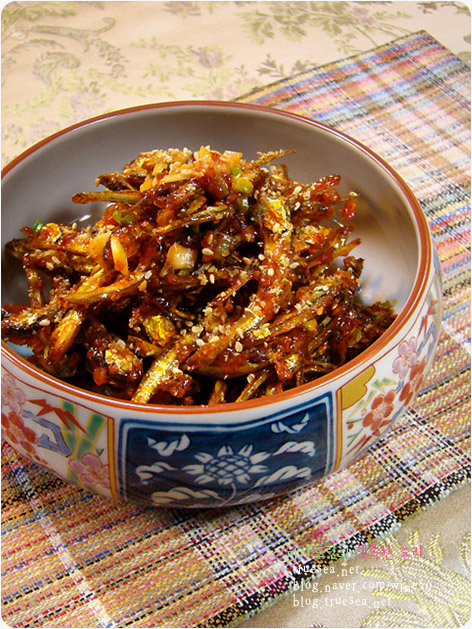myeolchibokk-eum: (3, 136, 398, 405)
